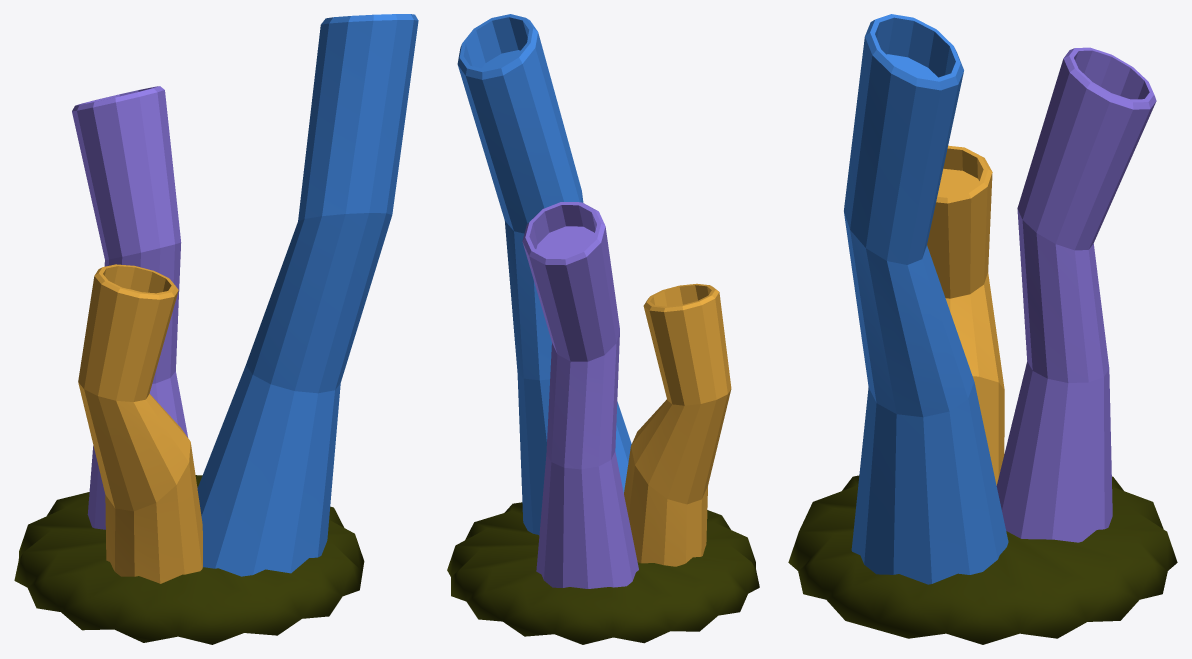
File: TriColor Coral.fbx
3 renders of one model, left to right at view 1: azimuth 30°, elevation 25°; view 2: azimuth 150°, elevation 25°; view 3: azimuth 270°, elevation 25°, orthographic. The views are drawn at different scales.
Visible parts, largest first — view 1: Tricolor Coral; view 2: Tricolor Coral; view 3: Tricolor Coral.
Part boxes in pixels (x1,y1,x2,y2): Tricolor Coral: (14,14,418,644); Tricolor Coral: (447,14,759,644); Tricolor Coral: (788,14,1177,644).
Size of the model in its own units: 0.3716 by 0.5854 by 0.3308.
